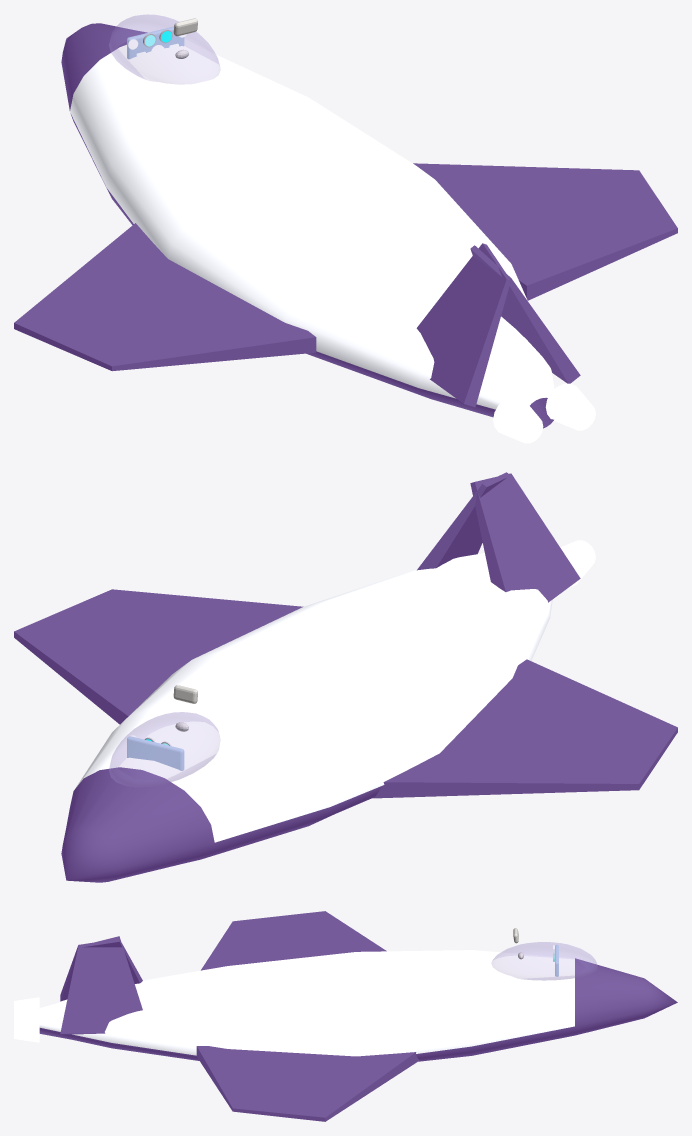
File: star.glb
3 renders of one model, top to bottom at view 1: azimuth 30°, elevation 25°; view 2: azimuth 150°, elevation 25°; view 3: azimuth 270°, elevation 25°, orthographic. The views are drawn at different scales.
Visible parts, largest first — view 1: Special_Fuselage, Special_WingL, Special_WingR, Special_TailFinL, Special_Canopy, Special_TailFinR, Special_EngineNozzleL, Special_EngineNozzleR, Special_DashboardConsole; view 2: Special_Fuselage, Special_WingL, Special_WingR, Special_TailFinL, Special_Canopy, Special_TailFinR, Special_DashboardConsole, Special_EngineNozzleL; view 3: Special_Fuselage, Special_WingR, Special_WingL, Special_TailFinR, Special_Canopy, Special_TailFinL, Special_EngineNozzleR, Special_EngineNozzleL.
Part boxes in pixels (x1=…): Special_Fuselage: x1=61, y1=23, x2=554, y2=428; Special_WingL: x1=14, y1=223, x2=316, y2=371; Special_WingR: x1=413, y1=163, x2=677, y2=300; Special_TailFinL: x1=416, y1=243, x2=509, y2=407; Special_Canopy: x1=109, y1=14, x2=220, y2=83; Special_TailFinR: x1=470, y1=245, x2=580, y2=383; Special_EngineNozzleL: x1=493, y1=396, x2=543, y2=443; Special_EngineNozzleR: x1=545, y1=383, x2=595, y2=430; Special_DashboardConsole: x1=127, y1=26, x2=184, y2=59; Special_Fuselage: x1=61, y1=553, x2=552, y2=882; Special_WingL: x1=372, y1=659, x2=677, y2=798; Special_WingR: x1=14, y1=589, x2=303, y2=724; Special_TailFinL: x1=470, y1=473, x2=580, y2=602; Special_Canopy: x1=109, y1=712, x2=219, y2=786; Special_TailFinR: x1=417, y1=472, x2=508, y2=570; Special_DashboardConsole: x1=127, y1=736, x2=184, y2=770; Special_EngineNozzleL: x1=560, y1=540, x2=595, y2=587; Special_Fuselage: x1=34, y1=950, x2=677, y2=1061; Special_WingR: x1=196, y1=1046, x2=419, y2=1121; Special_WingL: x1=201, y1=911, x2=386, y2=970; Special_TailFinR: x1=60, y1=936, x2=142, y2=1034; Special_Canopy: x1=492, y1=942, x2=597, y2=980; Special_TailFinL: x1=60, y1=938, x2=142, y2=1001; Special_EngineNozzleR: x1=14, y1=1014, x2=39, y2=1042; Special_EngineNozzleL: x1=14, y1=997, x2=39, y2=1018.
Bounding box in the file's own units: 1.9 × 0.4763 × 2.58.
